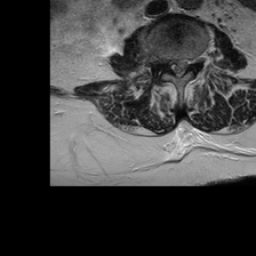CCS_normal: (175, 52, 182, 82)
LFS_stenosis: (190, 52, 196, 69)
LLS_normal: (183, 53, 189, 75)
RFS_severe_stenosis: (162, 52, 168, 70)
RLS_normal: (168, 51, 175, 75)
